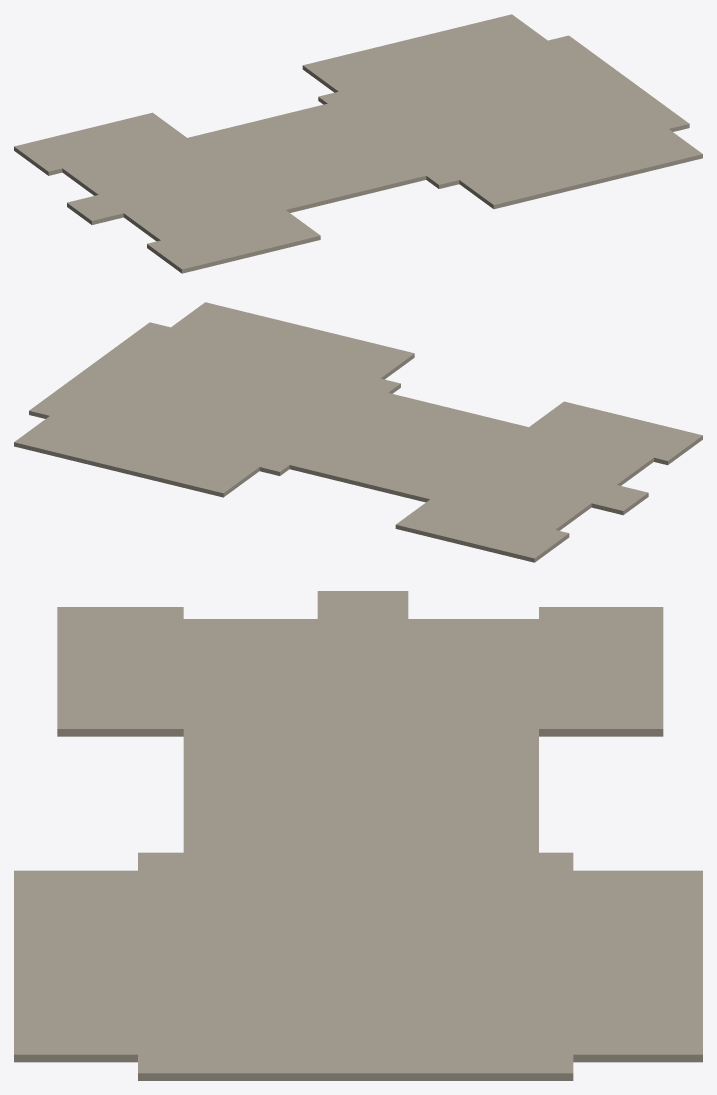
Rendered from BC_InsideGround.fbx.
3 views of the same model, one above another, from view 1: azimuth 30°, elevation 25°; view 2: azimuth 150°, elevation 25°; view 3: azimuth 270°, elevation 25° (orthographic). The views are drawn at different scales.
Parts seen in each view (by area): view 1: BC_InsideGround; view 2: BC_InsideGround; view 3: BC_InsideGround.
Part boxes in pixels (x1,y1,x2,y2): BC_InsideGround: (14, 14, 702, 273); BC_InsideGround: (14, 302, 702, 562); BC_InsideGround: (14, 591, 702, 1080).
Bounding box in the file's own units: 10054 × 73.94 × 6072.
